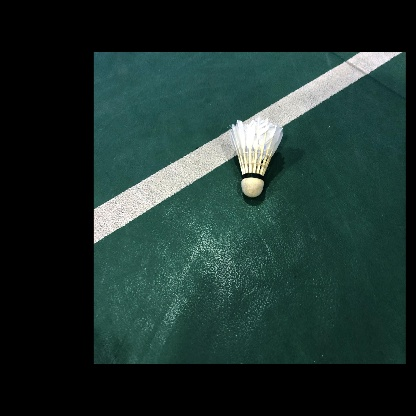ball_single: (230, 116, 283, 197)
